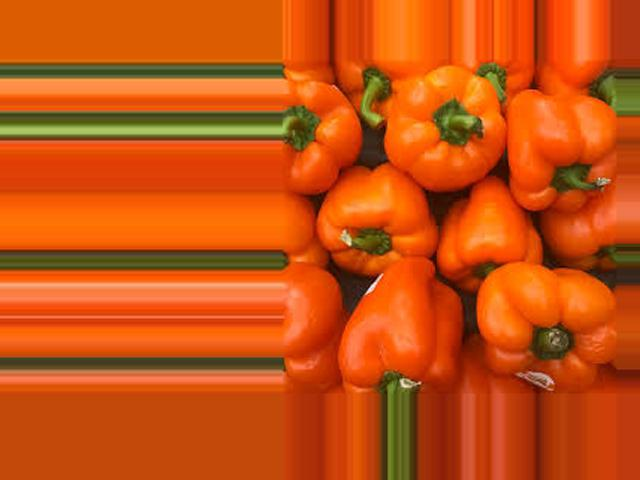bell_pepper: (285, 262, 339, 395)
